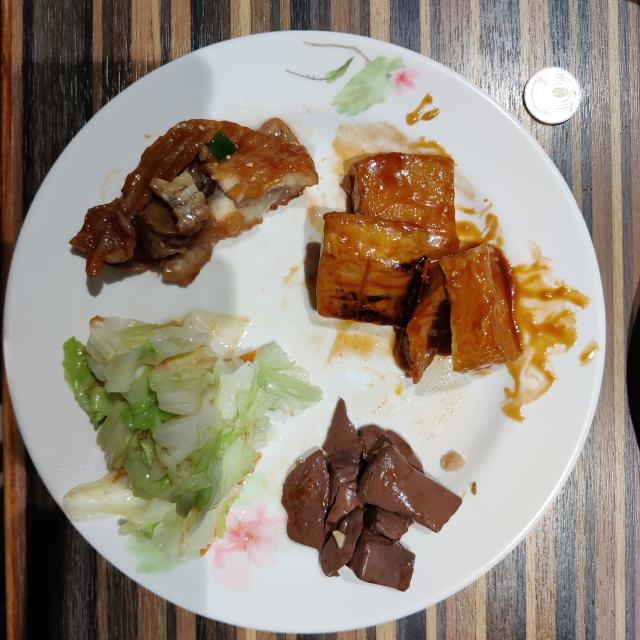Kabayaki sea bream fillet: (70, 119, 319, 285)
cabbage: (62, 310, 321, 559)
coin: (524, 68, 581, 124)
creamy tofu: (316, 152, 522, 382)
pig blood curd: (281, 400, 461, 591)
